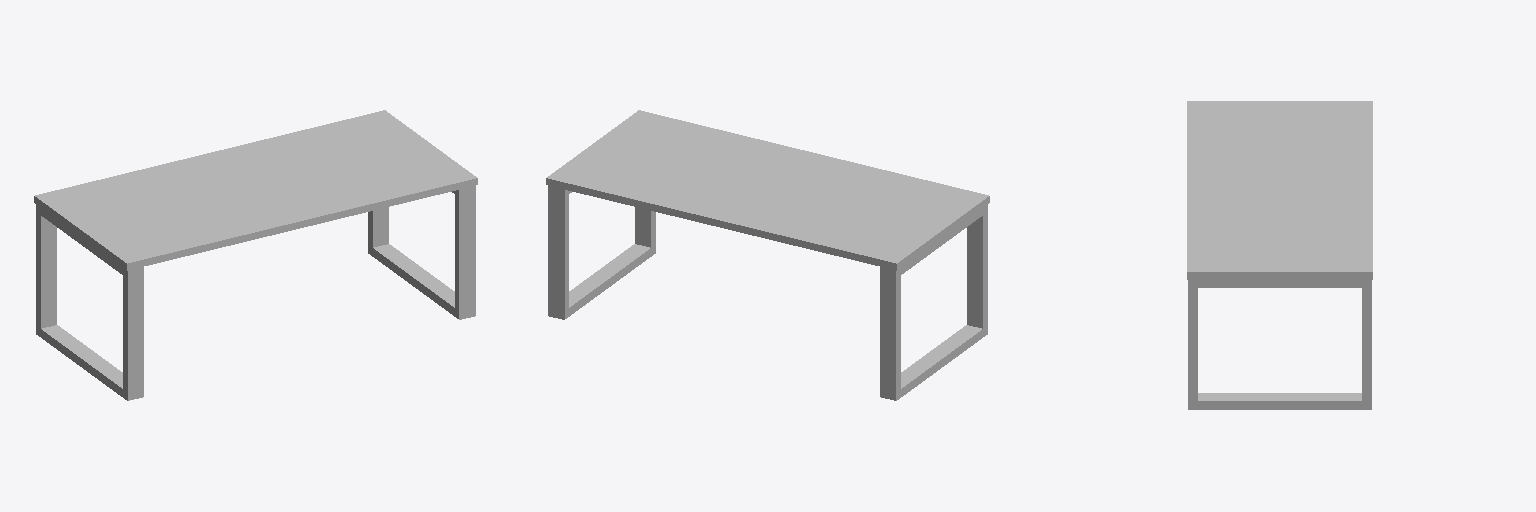
Rendered from Dumbo_Table.obj.
The picture shows the model from 3 angles: view 1: azimuth 30°, elevation 25°; view 2: azimuth 150°, elevation 25°; view 3: azimuth 270°, elevation 25°; orthographic projection.
Parts seen in each view (by area): view 1: Mesh3 Group3 Model, Mesh1 Group1 Model, Mesh2 Group2 Model; view 2: Mesh3 Group3 Model, Mesh1 Group1 Model, Mesh2 Group2 Model; view 3: Mesh3 Group3 Model, Mesh2 Group2 Model.
Boxes of the visible parts, x1,y1,x2,y2 form: Mesh3 Group3 Model: [34, 110, 477, 270]; Mesh1 Group1 Model: [36, 205, 143, 400]; Mesh2 Group2 Model: [368, 186, 475, 319]; Mesh3 Group3 Model: [546, 110, 989, 270]; Mesh1 Group1 Model: [880, 205, 987, 400]; Mesh2 Group2 Model: [548, 186, 655, 319]; Mesh3 Group3 Model: [1187, 101, 1372, 279]; Mesh2 Group2 Model: [1188, 280, 1371, 409].
Size of the model in its own units: 84 by 31.62 by 38.5.